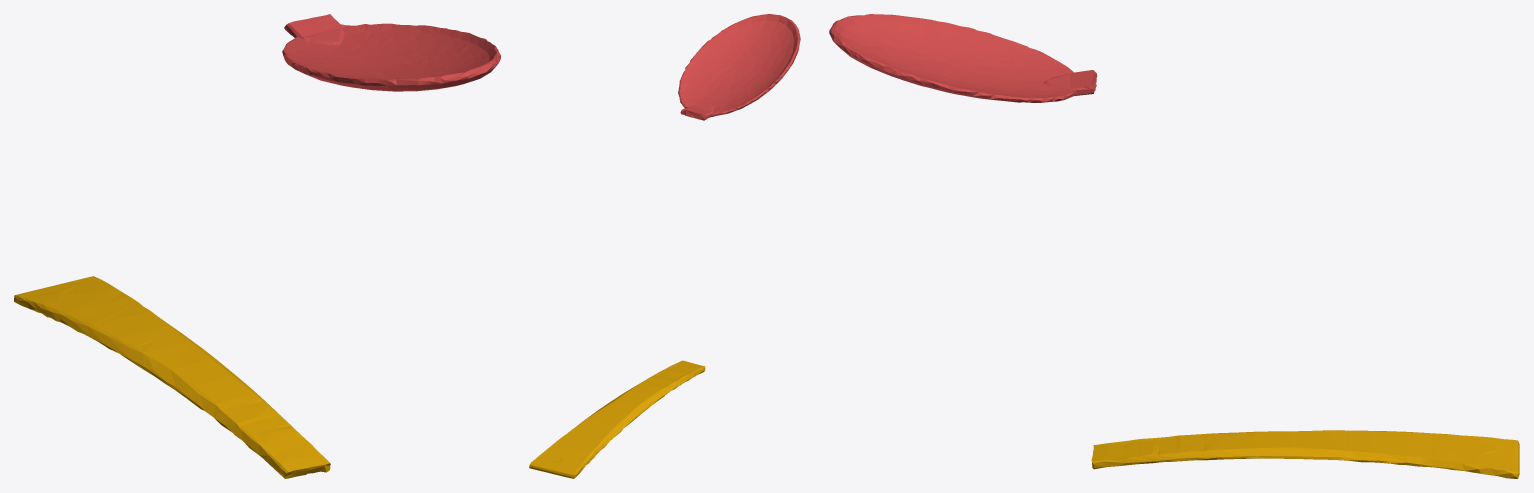
File: mode_1_2pcs_transformed.glb
3 renders of one model, left to right at view 1: azimuth 30°, elevation 25°; view 2: azimuth 150°, elevation 25°; view 3: azimuth 270°, elevation 25°, orthographic. The views are drawn at different scales.
Visible parts, largest first — view 1: piece_0.obj, piece_1.obj; view 2: piece_1.obj, piece_0.obj; view 3: piece_1.obj, piece_0.obj.
Boxes of the visible parts, left/top/right/bottom form: piece_0.obj: left=14, top=276, right=330, bottom=478; piece_1.obj: left=282, top=14, right=500, bottom=91; piece_1.obj: left=678, top=14, right=800, bottom=120; piece_0.obj: left=529, top=360, right=705, bottom=478; piece_1.obj: left=829, top=14, right=1097, bottom=102; piece_0.obj: left=1091, top=430, right=1519, bottom=478.
Size of the model in its own units: 0.2204 by 0.696 by 1.
